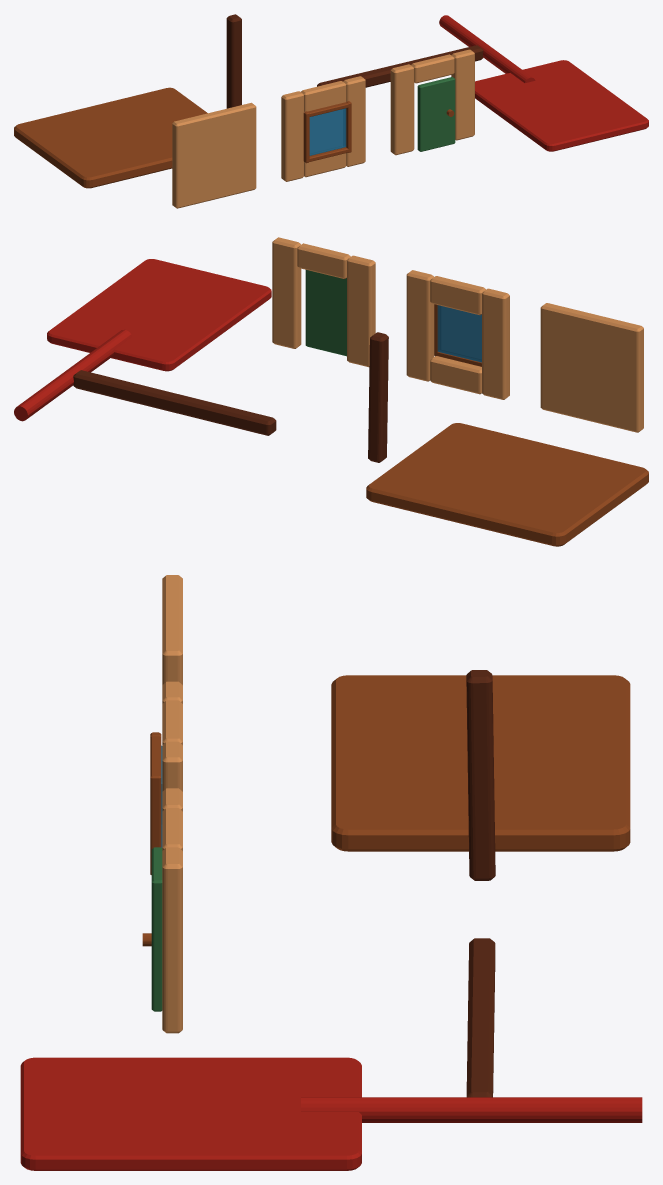
The model's file is OVERBUILD_ClayHouseKit.obj.
3 views of the same model, one above another, from view 1: azimuth 30°, elevation 25°; view 2: azimuth 150°, elevation 25°; view 3: azimuth 270°, elevation 25° (orthographic). The views are drawn at different scales.
Visible parts, largest first — view 1: Floor_4x3_Floor_4x3, Roof_Panel_Roof_Panel, Wall_Solid_Wall_Solid, Wall_Door_Wall_Door_Door, Wall_Door_Wall_Door_L, Wall_Window_Wall_Window_L, Wall_Door_Wall_Door_R, Wall_Window_Wall_Window_R, Wall_Window_Wall_Window_Glass, Post_2m4_Post_2m4, Roof_Ridge_Roof_Ridge, Wall_Window_Wall_Window_Frame (+4 smaller); view 2: Floor_4x3_Floor_4x3, Roof_Panel_Roof_Panel, Wall_Solid_Wall_Solid, Beam_4m_Beam_4m, Wall_Door_Wall_Door_Door, Wall_Door_Wall_Door_R, Wall_Window_Wall_Window_L, Wall_Door_Wall_Door_L, Wall_Window_Wall_Window_R, Post_2m4_Post_2m4, Wall_Window_Wall_Window_Glass, Roof_Ridge_Roof_Ridge (+4 smaller); view 3: Floor_4x3_Floor_4x3, Roof_Panel_Roof_Panel, Roof_Ridge_Roof_Ridge, Post_2m4_Post_2m4, Beam_4m_Beam_4m, Wall_Door_Wall_Door_R, Wall_Solid_Wall_Solid, Wall_Door_Wall_Door_Door, Wall_Window_Wall_Window_Frame, Wall_Window_Wall_Window_R, Wall_Window_Wall_Window_Top, Wall_Door_Wall_Door_Top.
Part boxes in pixels (bbox=[...]): Floor_4x3_Floor_4x3: bbox=[14, 87, 207, 188]; Roof_Panel_Roof_Panel: bbox=[475, 60, 648, 151]; Wall_Solid_Wall_Solid: bbox=[172, 102, 256, 208]; Wall_Door_Wall_Door_Door: bbox=[417, 77, 455, 151]; Wall_Door_Wall_Door_L: bbox=[390, 64, 414, 155]; Wall_Window_Wall_Window_L: bbox=[281, 91, 303, 181]; Wall_Door_Wall_Door_R: bbox=[451, 49, 474, 140]; Wall_Window_Wall_Window_R: bbox=[343, 76, 365, 166]; Wall_Window_Wall_Window_Glass: bbox=[309, 108, 346, 155]; Post_2m4_Post_2m4: bbox=[226, 14, 241, 108]; Roof_Ridge_Roof_Ridge: bbox=[439, 15, 535, 82]; Wall_Window_Wall_Window_Frame: bbox=[303, 101, 351, 163]; Floor_4x3_Floor_4x3: bbox=[366, 423, 648, 546]; Roof_Panel_Roof_Panel: bbox=[47, 259, 271, 371]; Wall_Solid_Wall_Solid: bbox=[540, 303, 643, 432]; Beam_4m_Beam_4m: bbox=[73, 370, 276, 435]; Wall_Door_Wall_Door_Door: bbox=[305, 270, 346, 356]; Wall_Door_Wall_Door_R: bbox=[272, 237, 301, 348]; Wall_Window_Wall_Window_L: bbox=[482, 288, 509, 399]; Wall_Door_Wall_Door_L: bbox=[347, 255, 375, 367]; Wall_Window_Wall_Window_R: bbox=[406, 270, 434, 381]; Post_2m4_Post_2m4: bbox=[368, 332, 388, 462]; Wall_Window_Wall_Window_Glass: bbox=[437, 305, 481, 362]; Roof_Ridge_Roof_Ridge: bbox=[14, 329, 131, 421]; Floor_4x3_Floor_4x3: bbox=[331, 675, 630, 851]; Roof_Panel_Roof_Panel: bbox=[20, 1057, 361, 1170]; Roof_Ridge_Roof_Ridge: bbox=[301, 1097, 642, 1122]; Post_2m4_Post_2m4: bbox=[466, 670, 495, 880]; Beam_4m_Beam_4m: bbox=[466, 938, 495, 1097]; Wall_Door_Wall_Door_R: bbox=[162, 847, 182, 1033]; Wall_Solid_Wall_Solid: bbox=[162, 575, 182, 684]; Wall_Door_Wall_Door_Door: bbox=[151, 847, 162, 1011]; Wall_Window_Wall_Window_Frame: bbox=[150, 732, 161, 874]; Wall_Window_Wall_Window_R: bbox=[162, 741, 182, 791]; Wall_Window_Wall_Window_Top: bbox=[162, 700, 182, 744]; Wall_Door_Wall_Door_Top: bbox=[162, 808, 182, 850].
Size of the model in its own units: 12.08 by 2.4 by 6.65.
